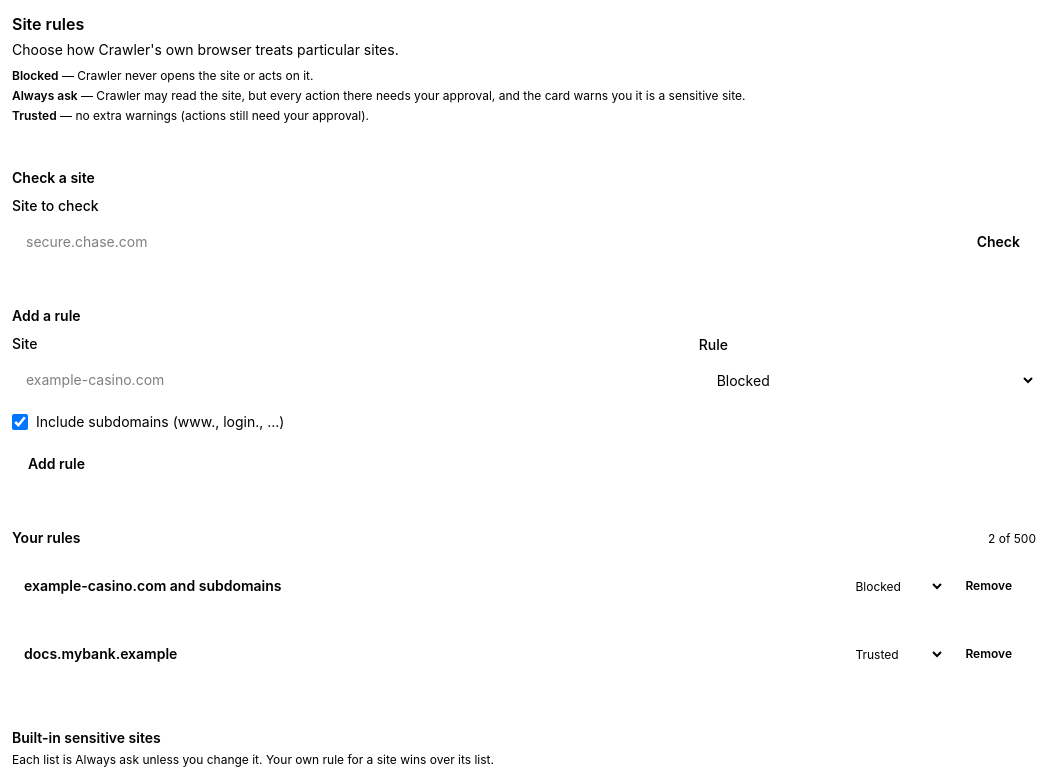
it: SiteRulesTab › a 422 from the server is shown next to the form as written and the typed site is kept
Expected: the element "Your rules" is shown, [12,508,1036,684]
Type "*.com" into the field labelled "Site" at [349, 380], box [12,360,687,400]
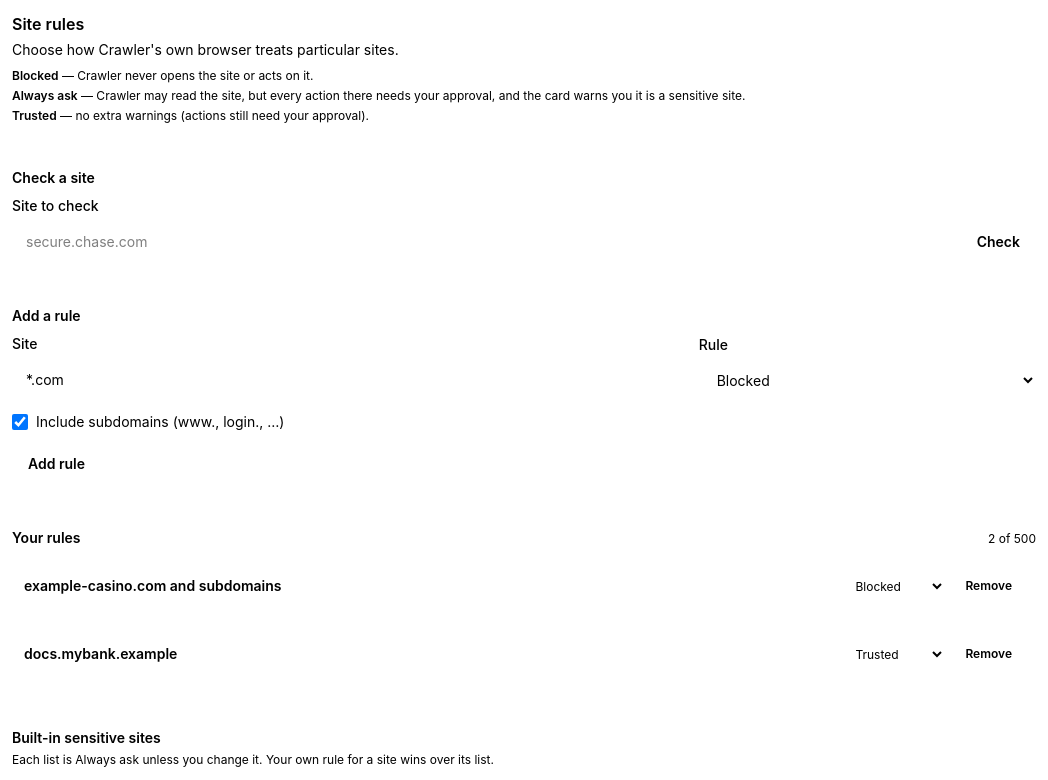
Click the button "Add rule" at [56, 464], box [12,444,101,484]
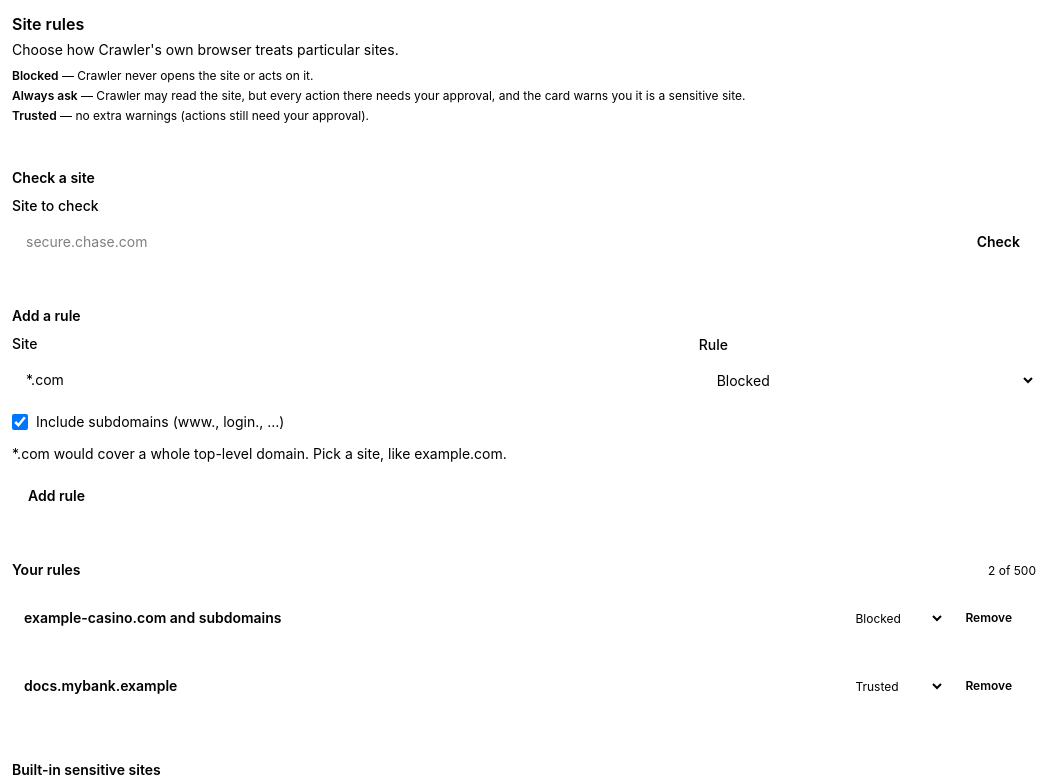
Result: the message reads "*.com would cover a whole top-level domain. Pick a site, like example.com." at [12,445,507,462]
